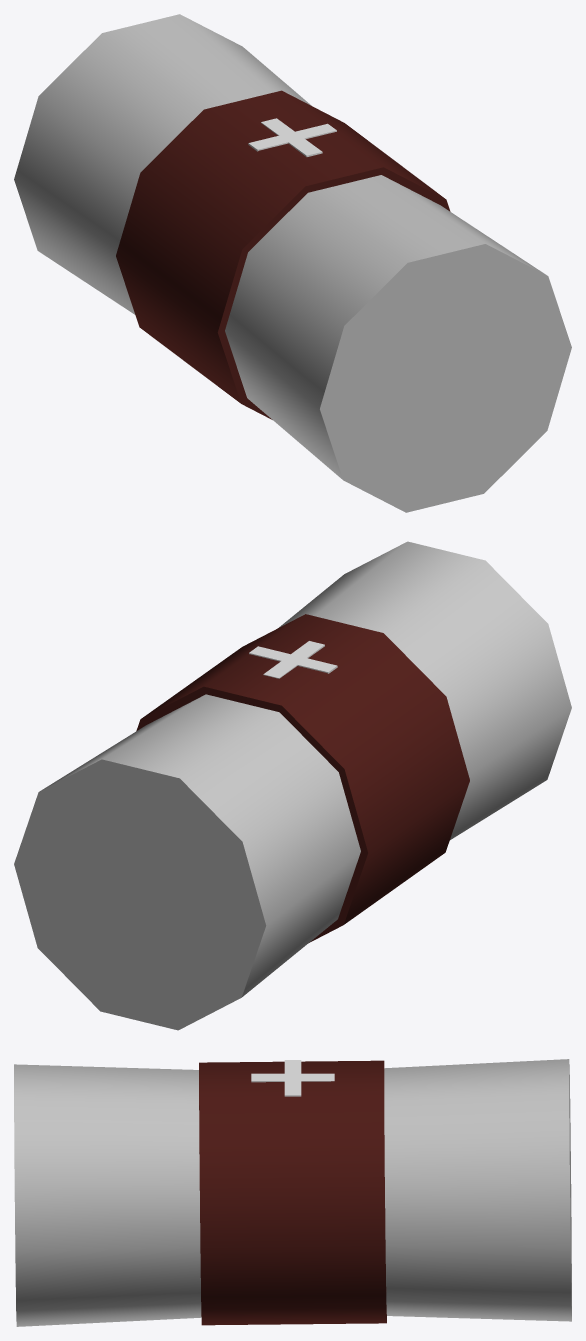
Rendered from PickUp_Bandage.fbx.
The picture shows the model from 3 angles, top to bottom: view 1: azimuth 30°, elevation 25°; view 2: azimuth 150°, elevation 25°; view 3: azimuth 270°, elevation 25°; orthographic projection. The views are drawn at different scales.
Parts seen in each view (by area): view 1: Cylinder001; view 2: Cylinder001; view 3: Cylinder001.
Boxes of the visible parts, left/top/right/bottom form: Cylinder001: left=14, top=14, right=571, bottom=512; Cylinder001: left=14, top=541, right=571, bottom=1030; Cylinder001: left=14, top=1059, right=571, bottom=1326.
Size of the model in its own units: 7.73 by 7.52 by 16.29.
